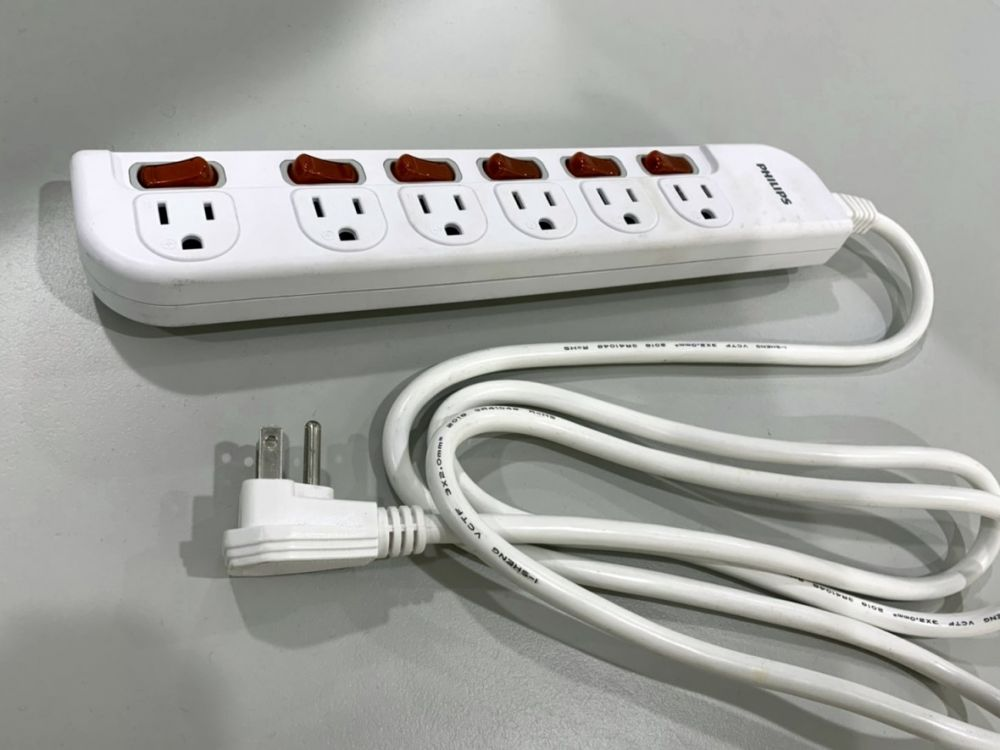socket: (69, 143, 882, 325)
